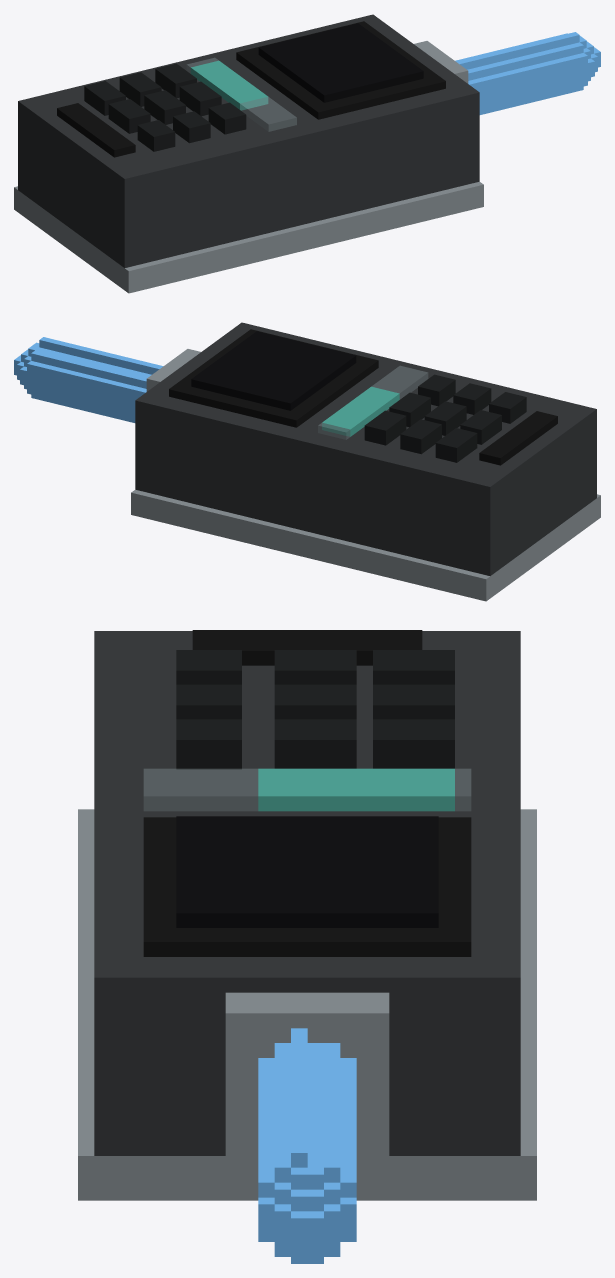
Rendered from psionic_transporter_remote.glb.
3 renders of one model, top to bottom at view 1: azimuth 30°, elevation 25°; view 2: azimuth 150°, elevation 25°; view 3: azimuth 270°, elevation 25°, orthographic. The views are drawn at different scales.
Visible parts, largest first — view 1: psionic_transporter_remote:compound; view 2: psionic_transporter_remote:compound; view 3: psionic_transporter_remote:compound.
Part boxes in pixels (bbox=[...]): psionic_transporter_remote:compound: bbox=[14, 14, 600, 293]; psionic_transporter_remote:compound: bbox=[14, 322, 600, 601]; psionic_transporter_remote:compound: bbox=[78, 630, 536, 1263].
Size of the model in its own units: 0.148 by 0.034 by 0.056.
